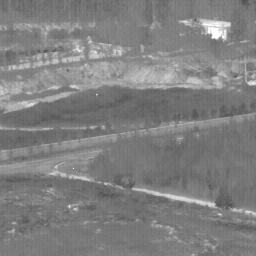aircraft: (96, 94, 98, 96)
